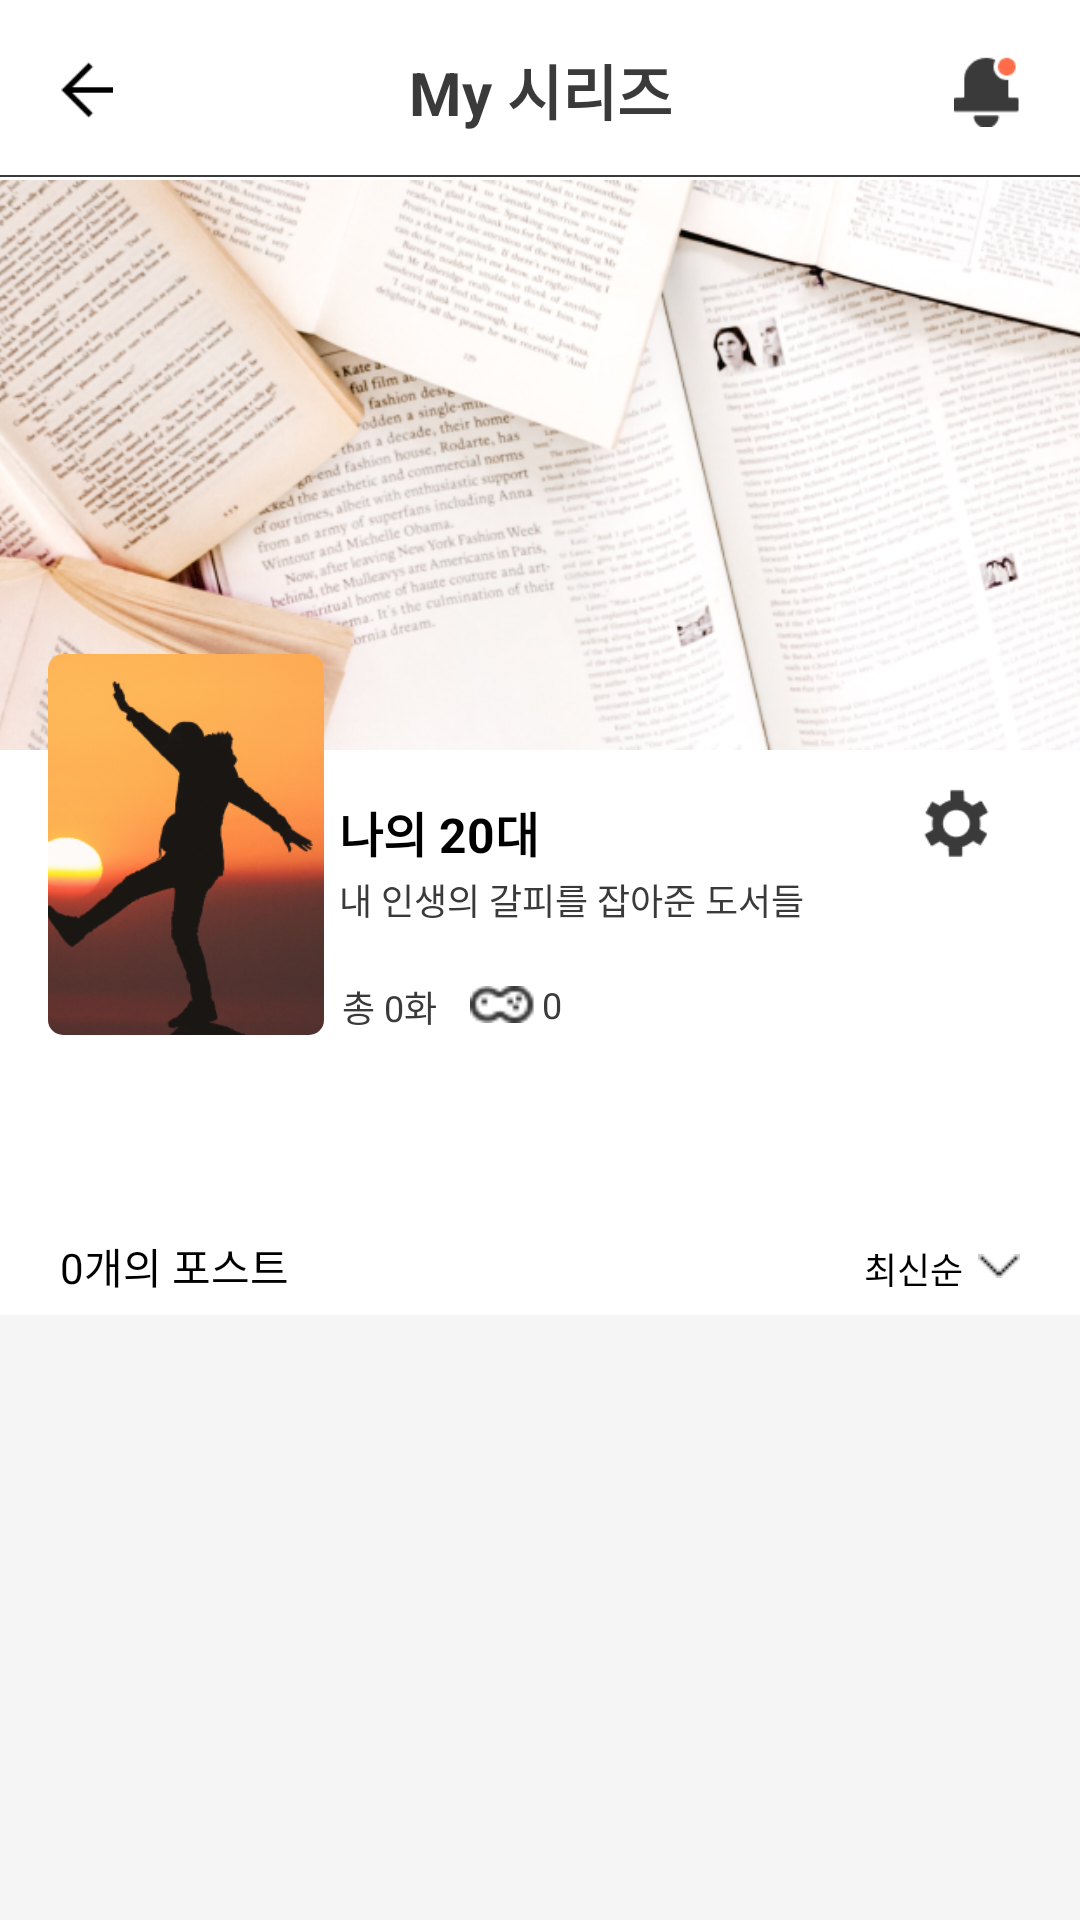

Where icons sit on this 1080px x 1920px app screen, as (x1, y1, x2, y2):
alarm: (954, 57, 1019, 127)
arrow left: (61, 62, 113, 118)
direction down: (978, 1254, 1020, 1278)
